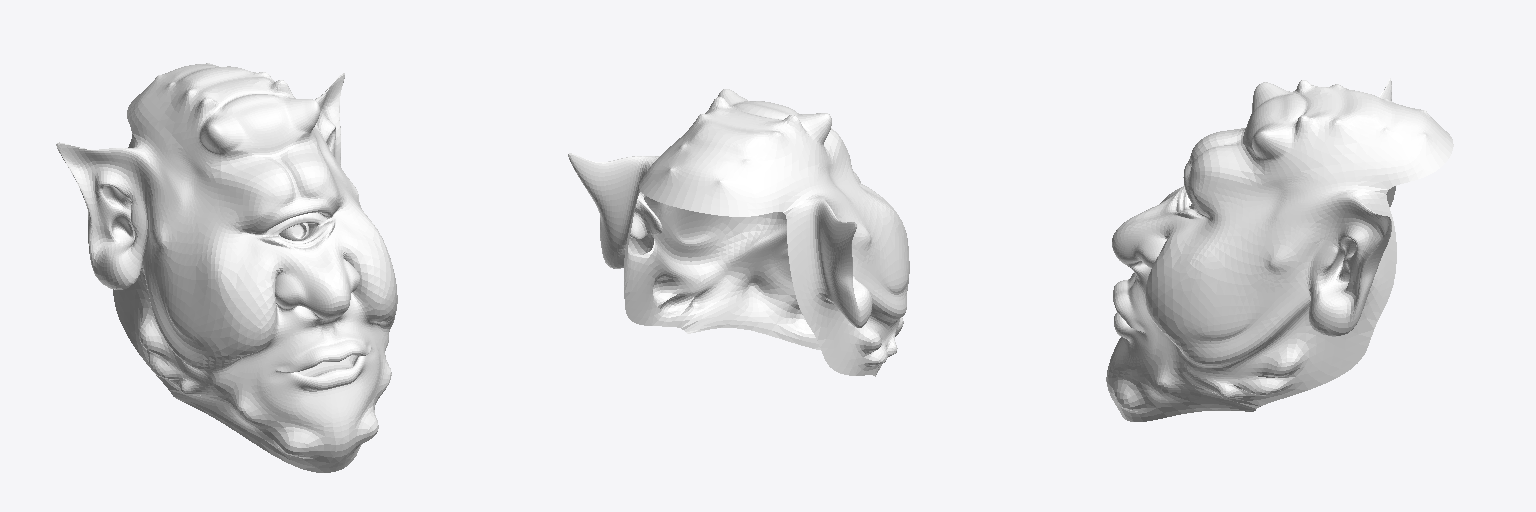
File: Ogro.obj
3 views of the same model, side by side, from view 1: azimuth 30°, elevation 25°; view 2: azimuth 150°, elevation 25°; view 3: azimuth 270°, elevation 25° (orthographic).
Visible parts, largest first — view 1: default; view 2: default; view 3: default.
Boxes of the visible parts, x1,y1,x2,y2 form: default: [56, 63, 397, 472]; default: [568, 89, 909, 376]; default: [1106, 78, 1453, 421].
Bounding box in the file's own units: 11.36 × 11.87 × 11.83.